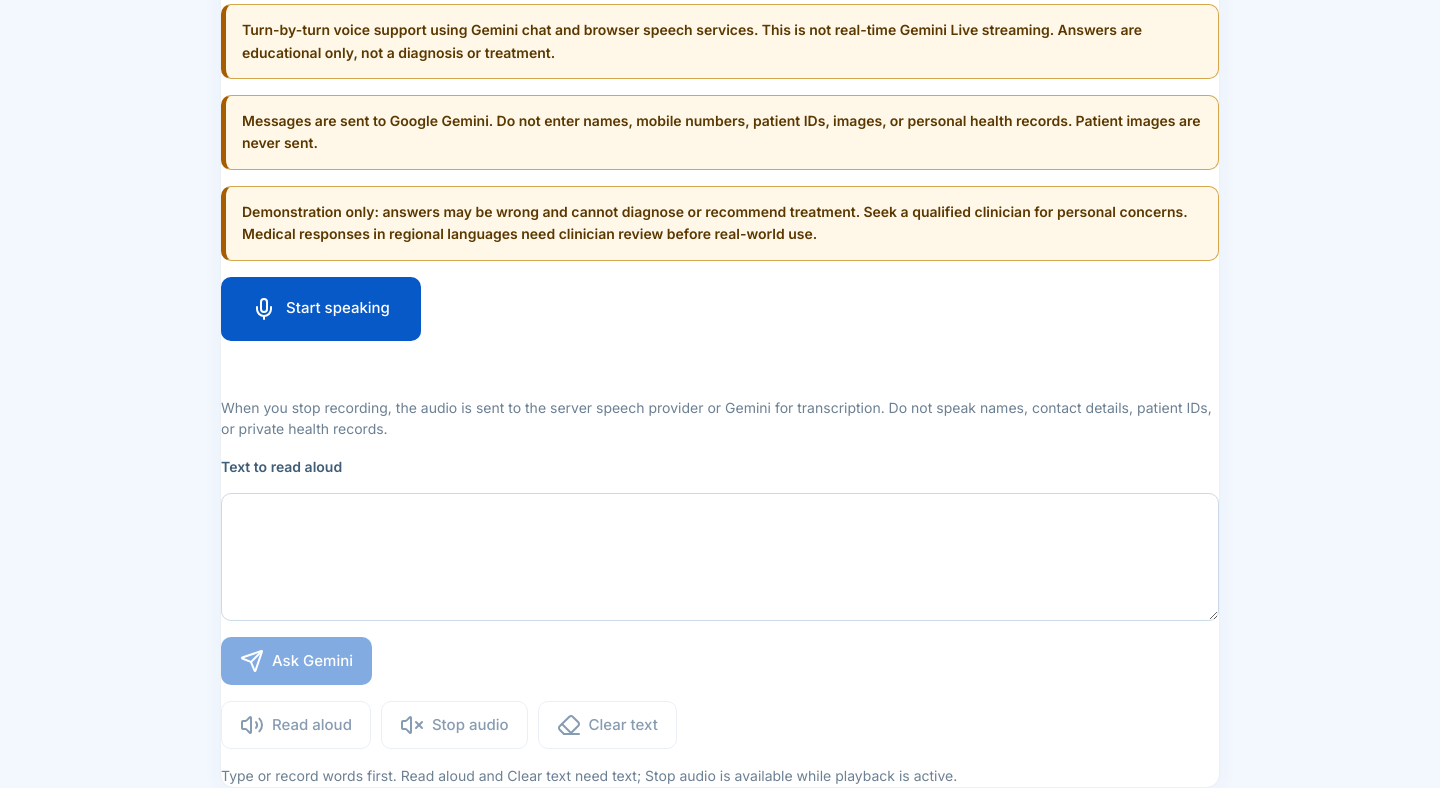
Scenario: Phase 10 language and voice pages › records speech, transcribes it, and appends the transcript without losing typed text
(page scrolled)
Type "Existing typed text" into the text box labelled "Text to read aloud" at point(720, 557), box [221, 493, 1219, 621]
(page scrolled)
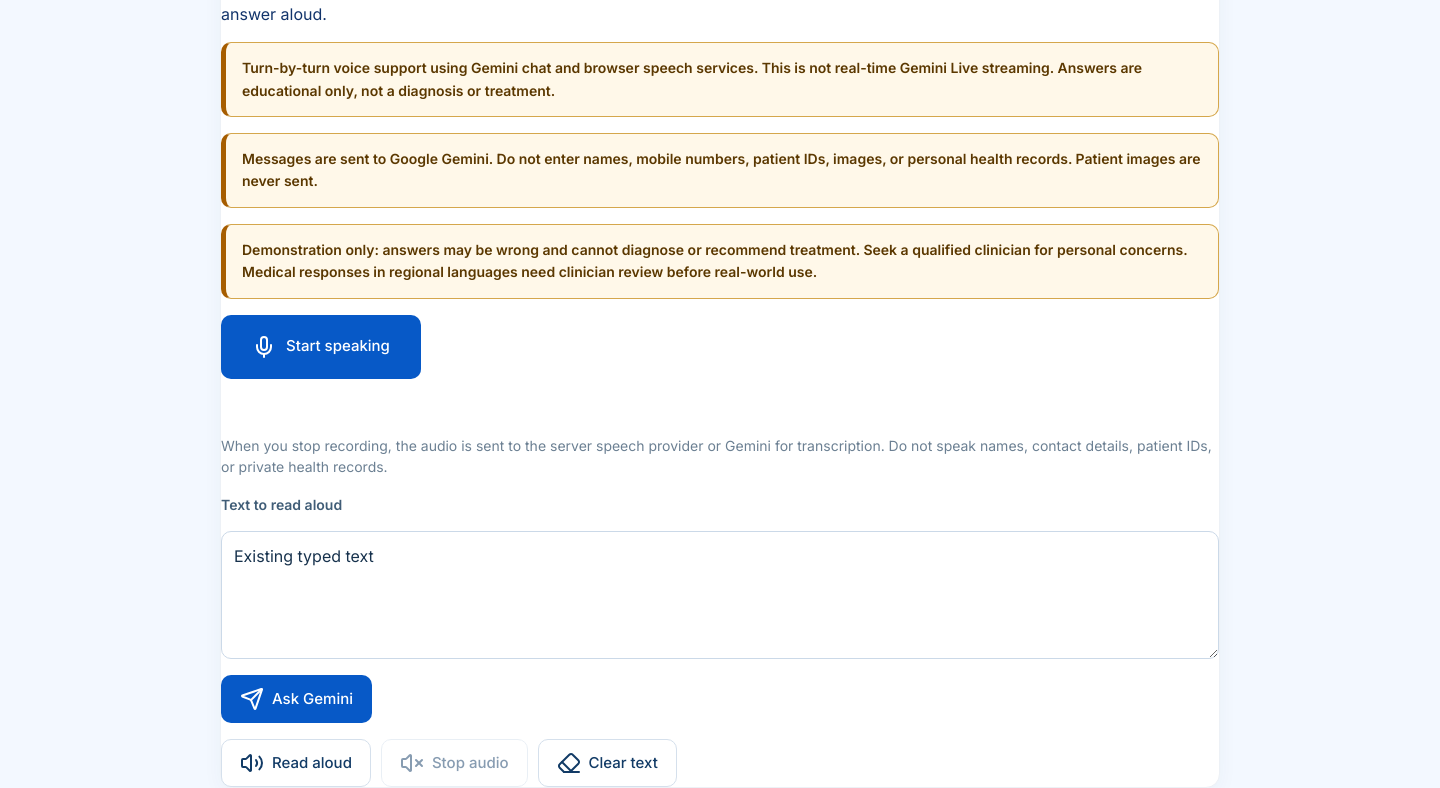
Click the button "Start speaking" at point(321, 347), box [221, 315, 421, 379]
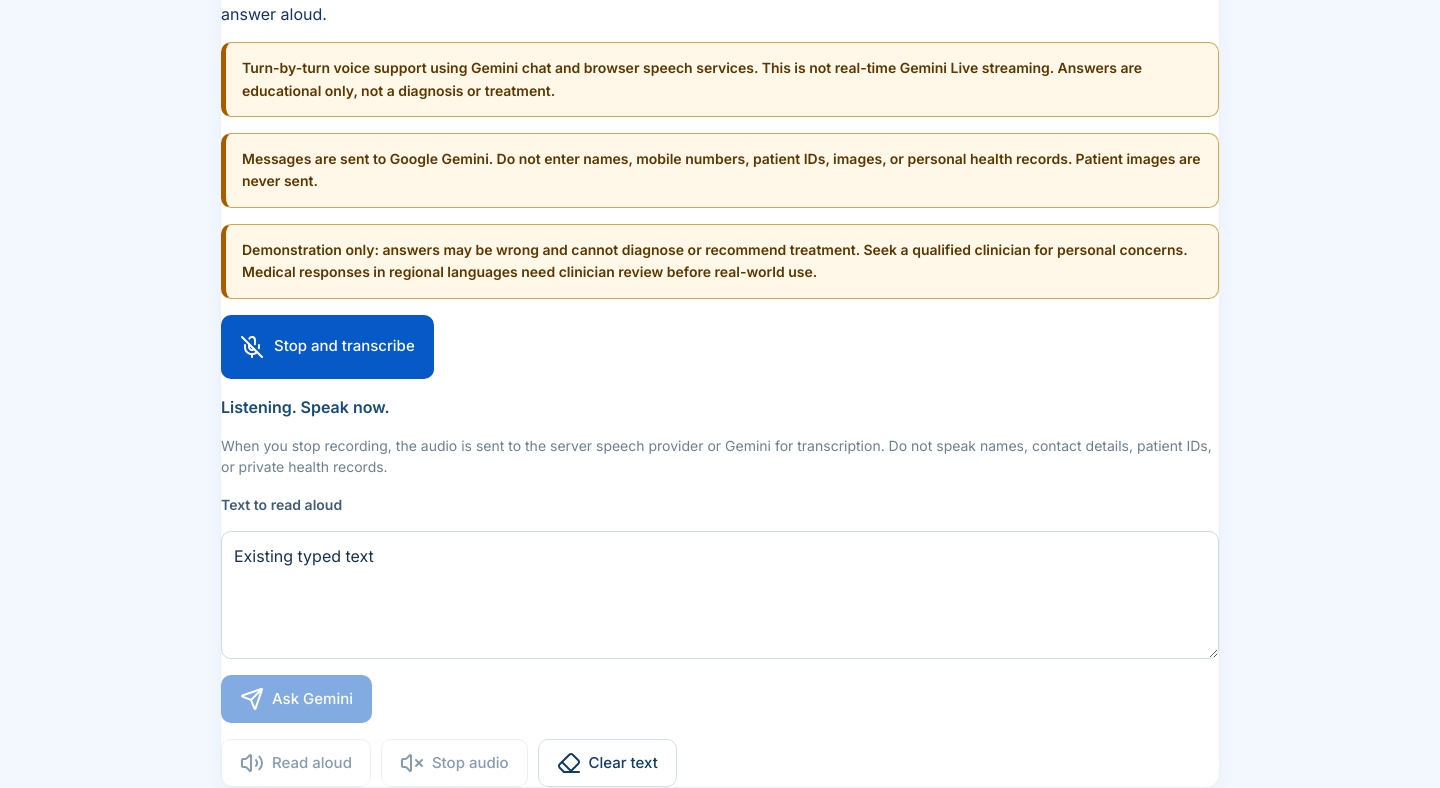
expect the text "Listening. Speak now." is shown: met, box [221, 397, 390, 417]
Click the button "Stop and transcribe" at point(327, 347), box [221, 315, 434, 379]
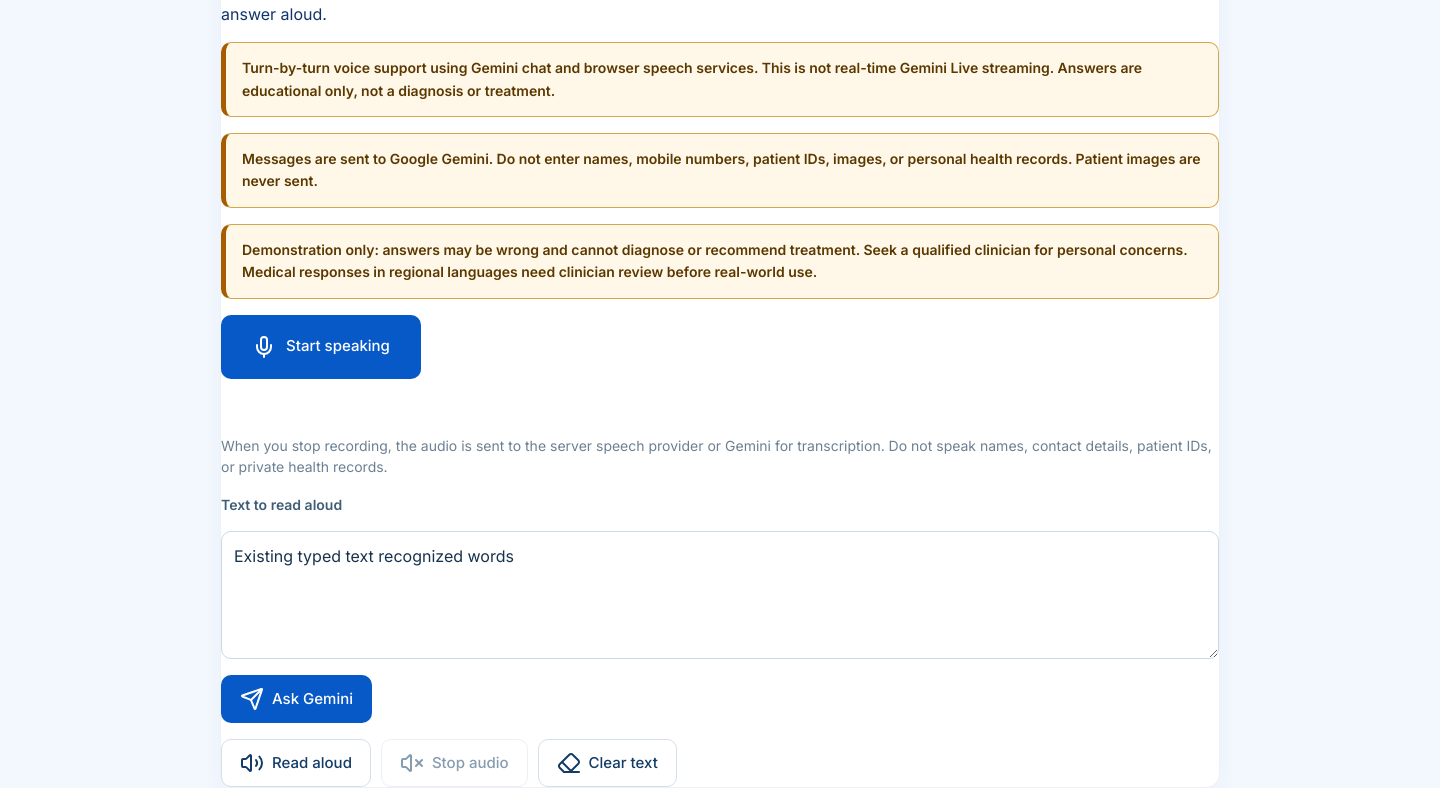
expect the text box labelled "Text to read aloud" holds "Existing typed text recognized words": met, box [221, 531, 1219, 659]
